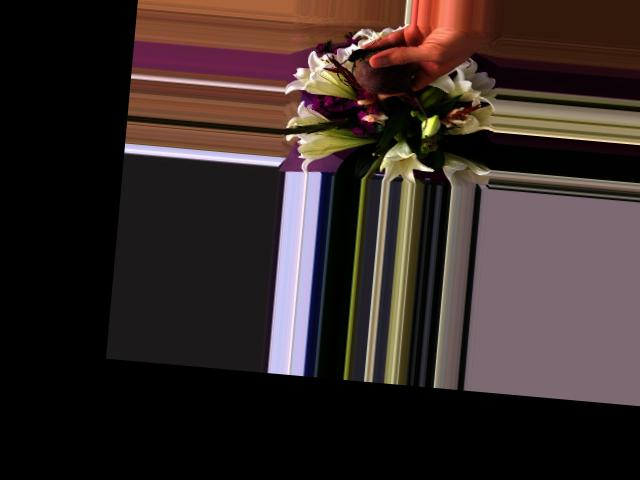beet: (331, 45, 433, 130)
